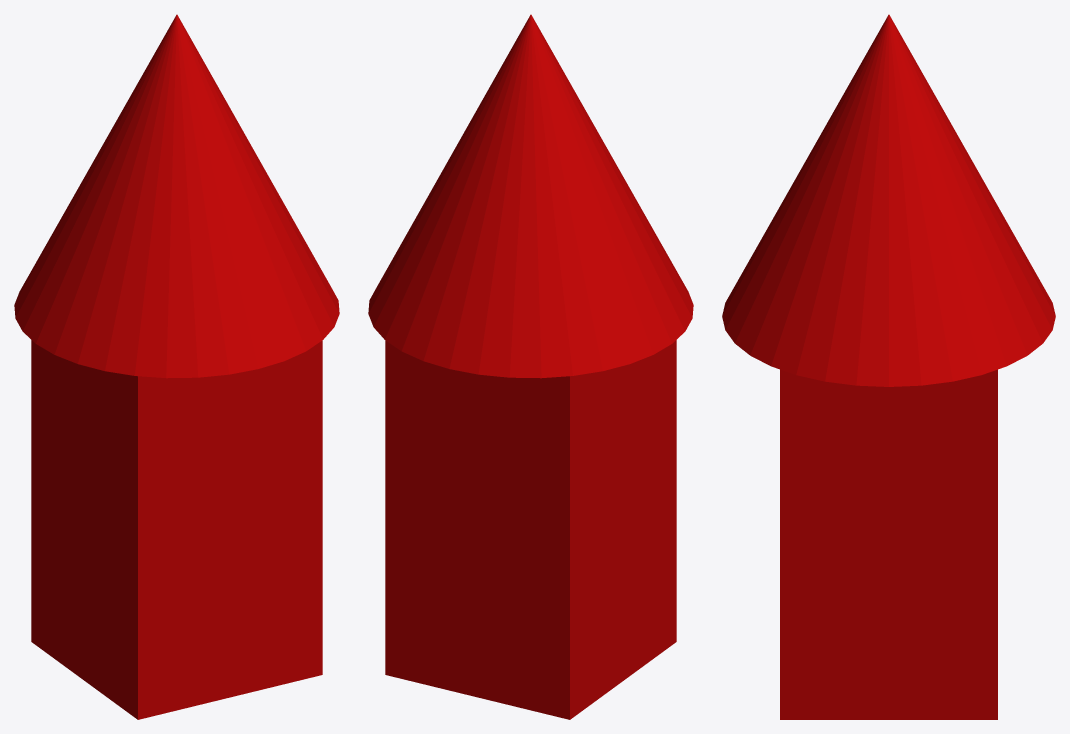
The model's file is PositionDepart.obj.
3 views of the same model, side by side, from view 1: azimuth 30°, elevation 25°; view 2: azimuth 150°, elevation 25°; view 3: azimuth 270°, elevation 25° (orthographic). The views are drawn at different scales.
Visible parts, largest first — view 1: Cube_Cube.002; view 2: Cube_Cube.002; view 3: Cube_Cube.002.
Boxes of the visible parts, box(x1,y1,x2,y2) form: Cube_Cube.002: box(14, 14, 339, 719); Cube_Cube.002: box(368, 14, 693, 719); Cube_Cube.002: box(722, 14, 1055, 719).
Size of the model in its own units: 30.6 by 66.75 by 30.6.
